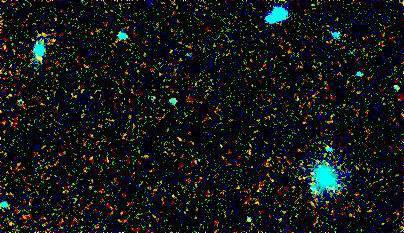star: (235, 136, 265, 166)
